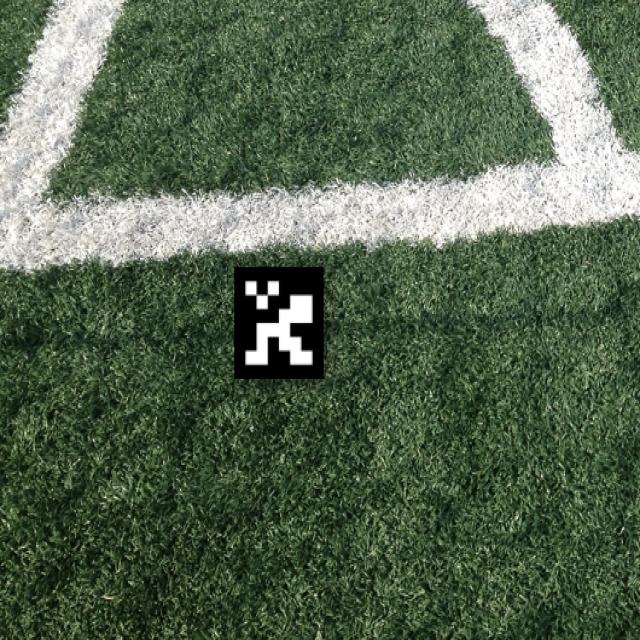marker: (223, 251, 334, 386)
